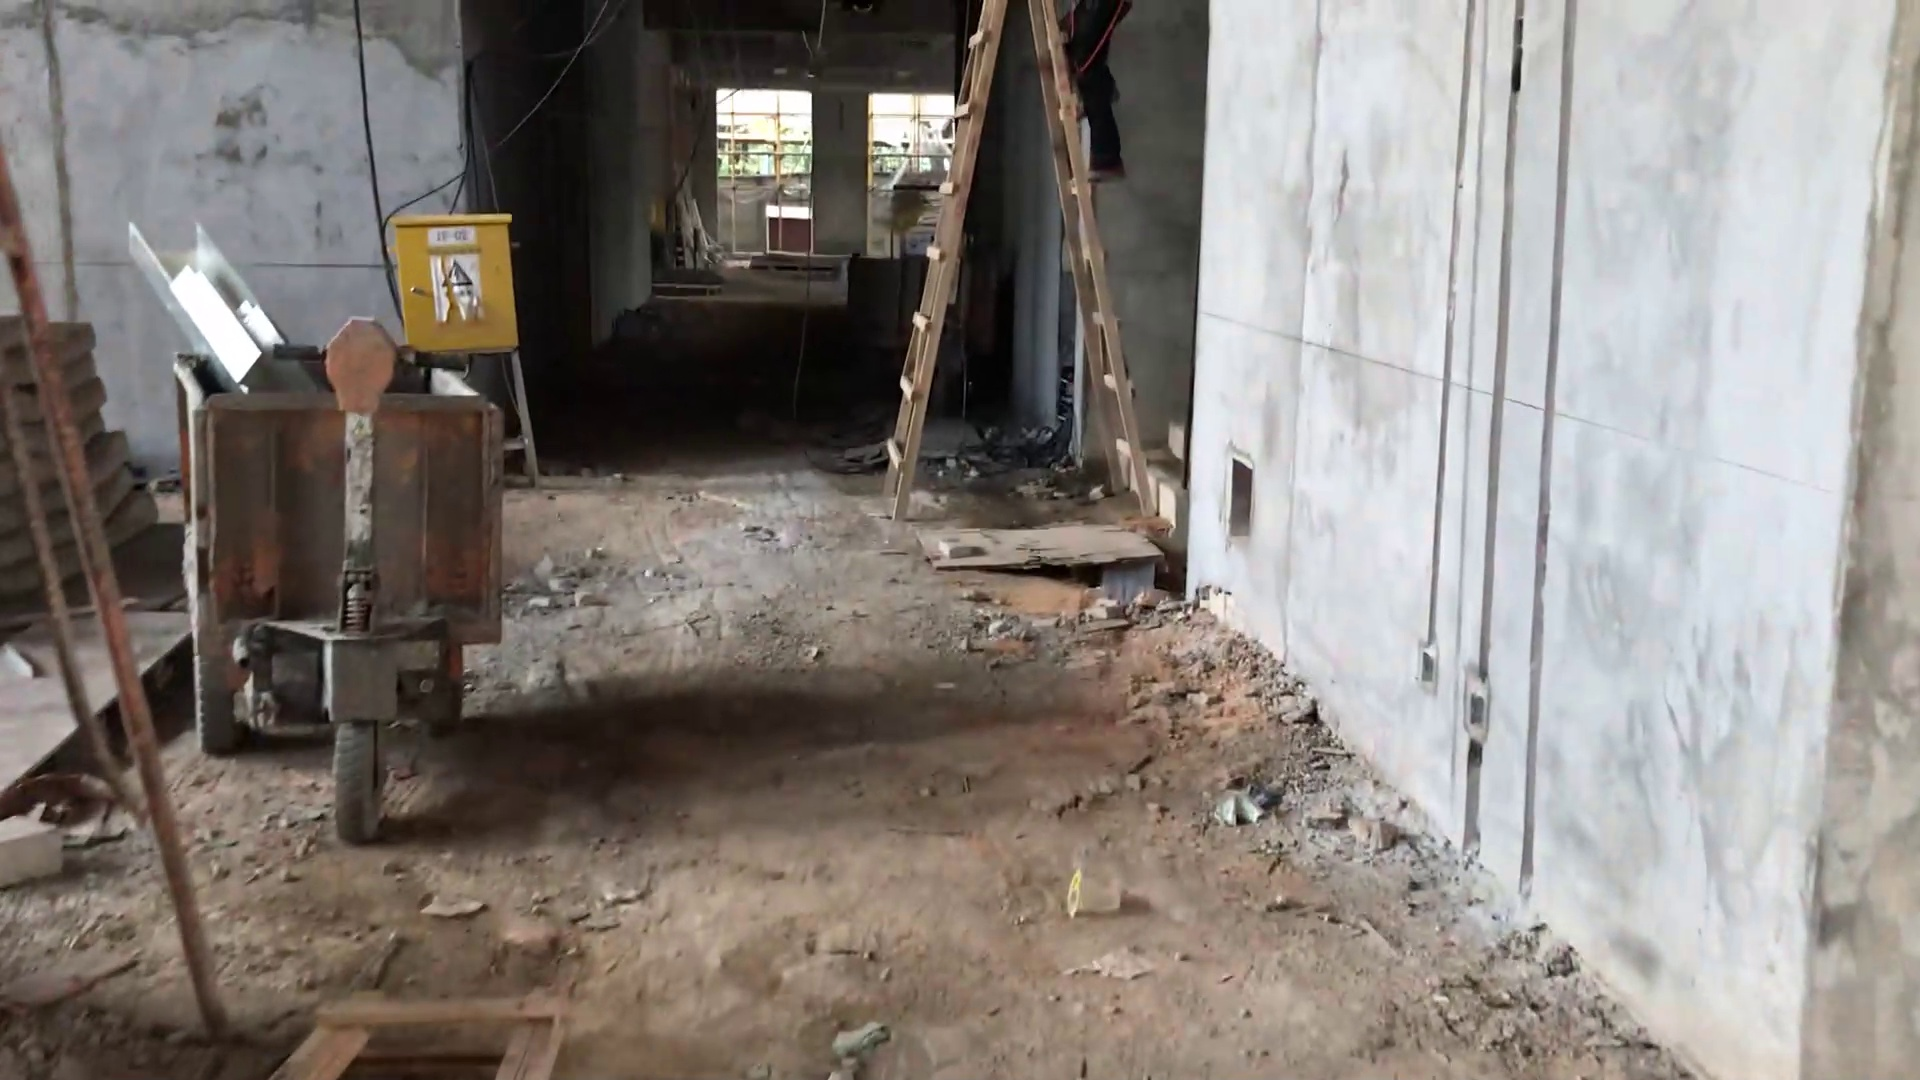ebox: (356, 189, 563, 390)
